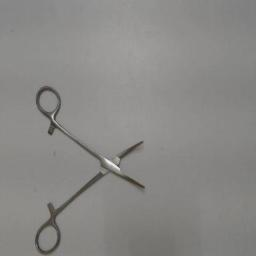Crile Artery Forceps: (32, 82, 150, 254)
